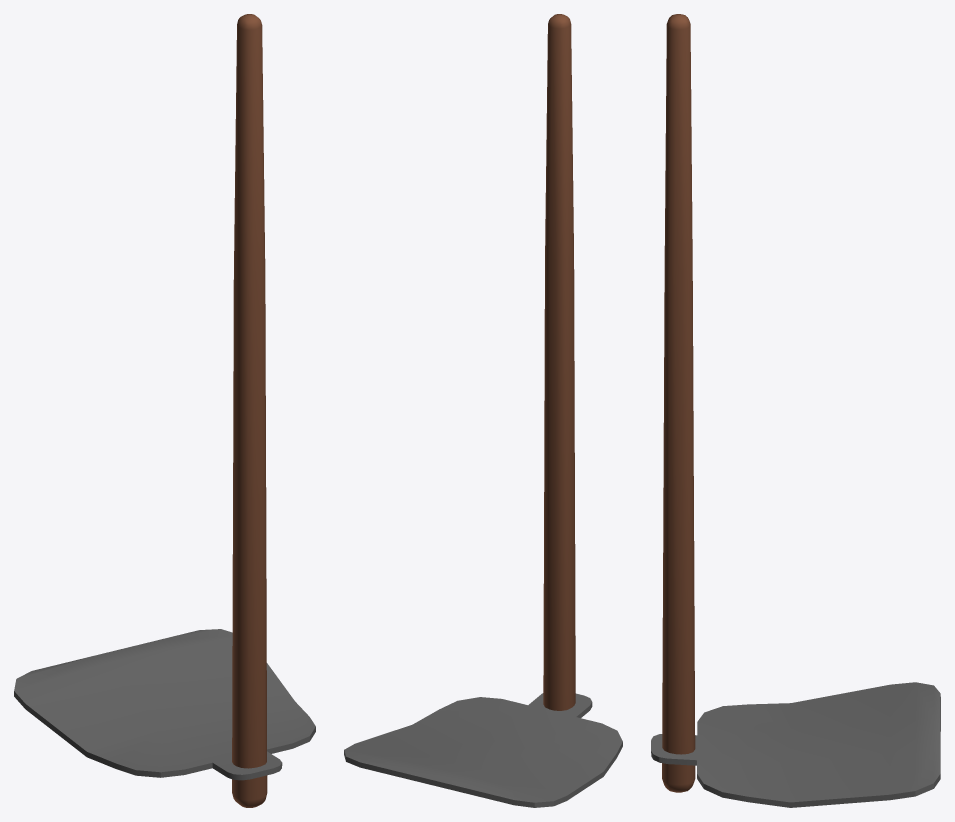
File: Tool7.fbx
3 renders of one model, left to right at view 1: azimuth 30°, elevation 25°; view 2: azimuth 150°, elevation 25°; view 3: azimuth 270°, elevation 25°, orthographic. The views are drawn at different scales.
Parts seen in each view (by area): view 1: Cube.050; view 2: Cube.050; view 3: Cube.050.
Part boxes in pixels (box(x1,y1,x2,y2)): Cube.050: box(14, 14, 315, 807); Cube.050: box(344, 14, 622, 807); Cube.050: box(651, 14, 940, 807).
Bounding box in the file's own units: 0.508 × 0.5646 × 1.67.
